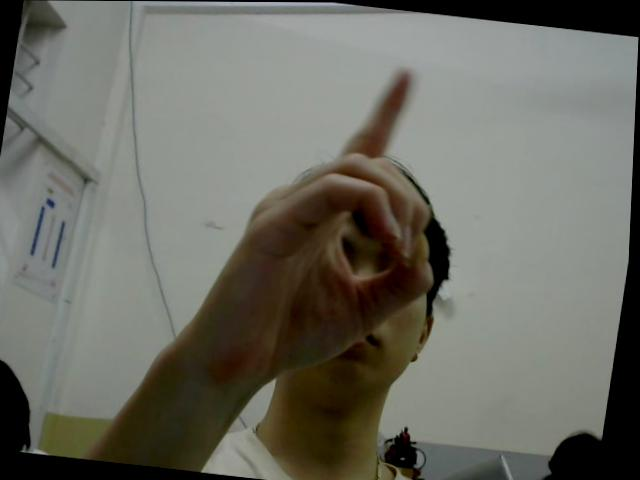D: (205, 44, 468, 401)
